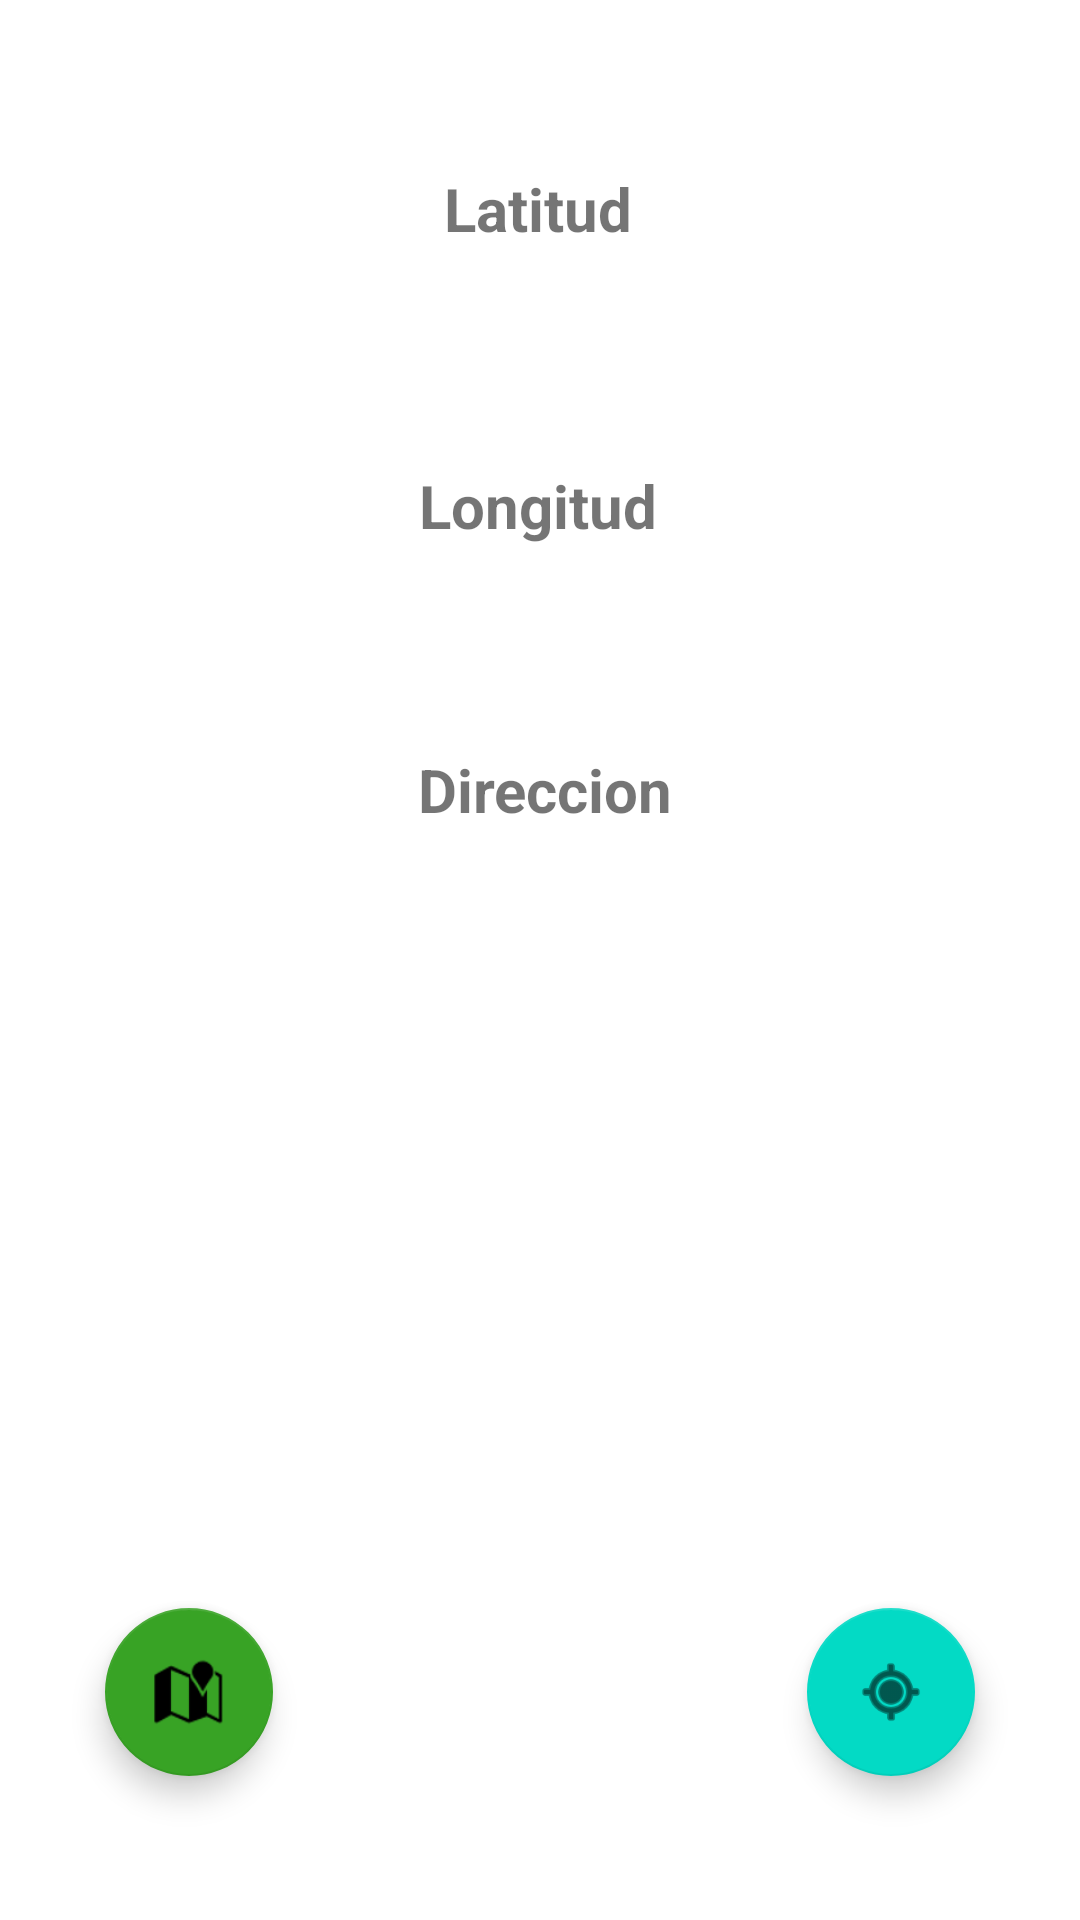

Locate icon controls on the screen. Image size 1080px×1920px, boxes as (x1, y1, x2, y2).
Habilitar GPS en el celular: (807, 1608, 975, 1776)
